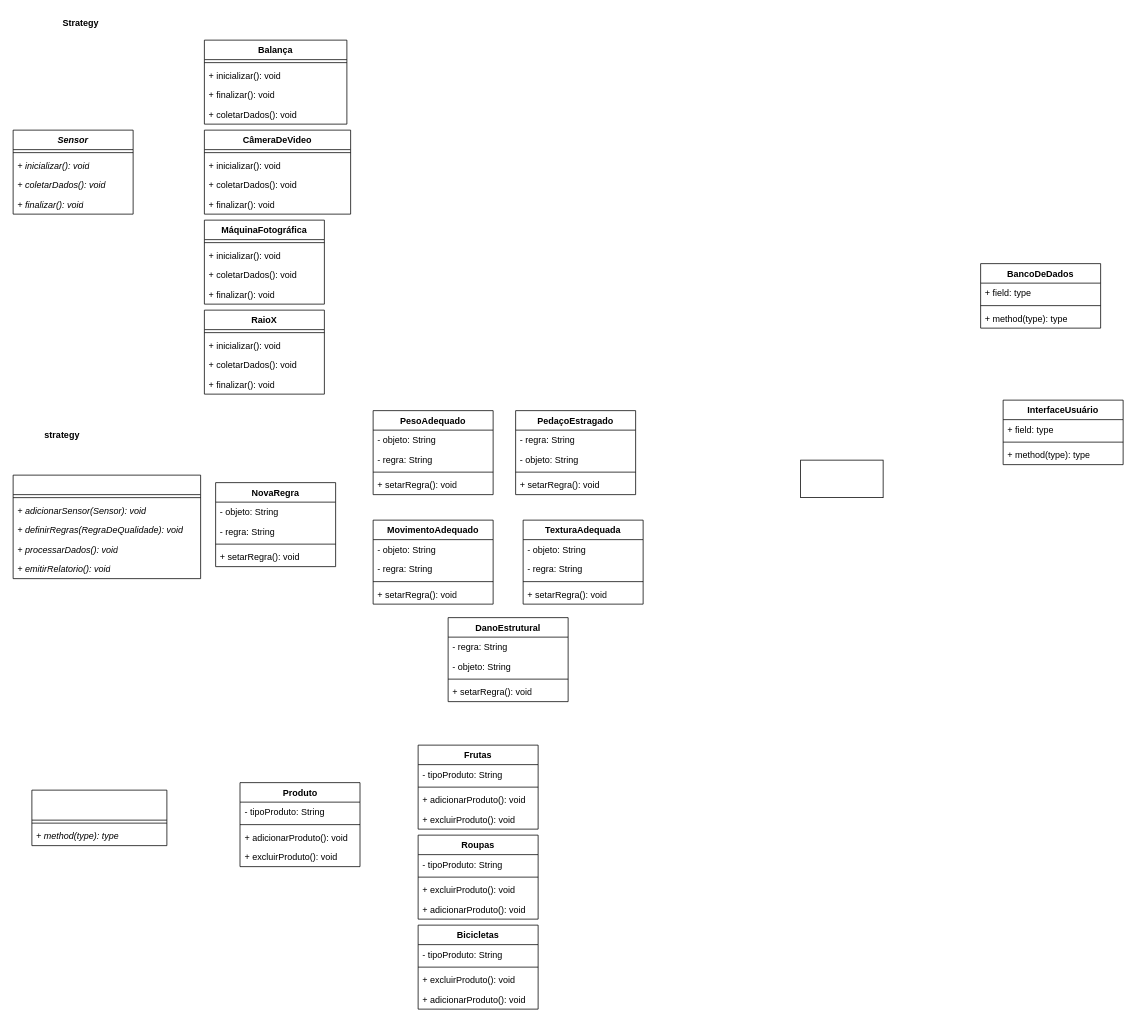
The diagram is 1136 pixels wide and 1024 high, and some of its shapes have lost their labels. The box of each missing label's shape, as (x1, y1, x2, y2) in pixels:
<<interface>> RegraDeQualidade: (31, 789, 167, 846)
ControladorDeQualidade: (12, 474, 201, 579)
Controle: (800, 459, 883, 498)
